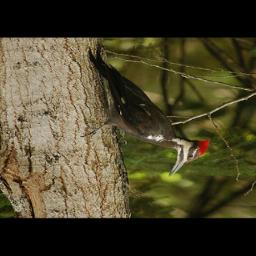Woodpecker: (76, 46, 213, 177)
